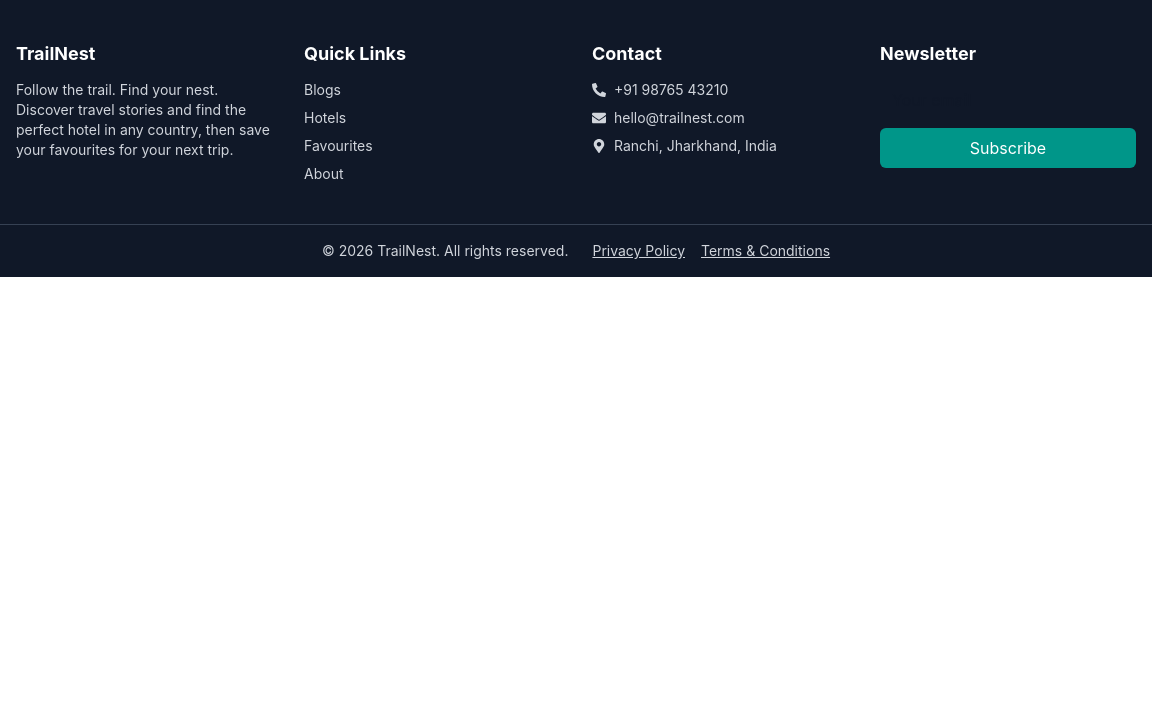
Test: Footer privacy modal › opens and closes with the Escape key
This screenshot has width=1152, height=720.
Click the button "Privacy Policy" at point(639, 251), box [592, 241, 685, 261]
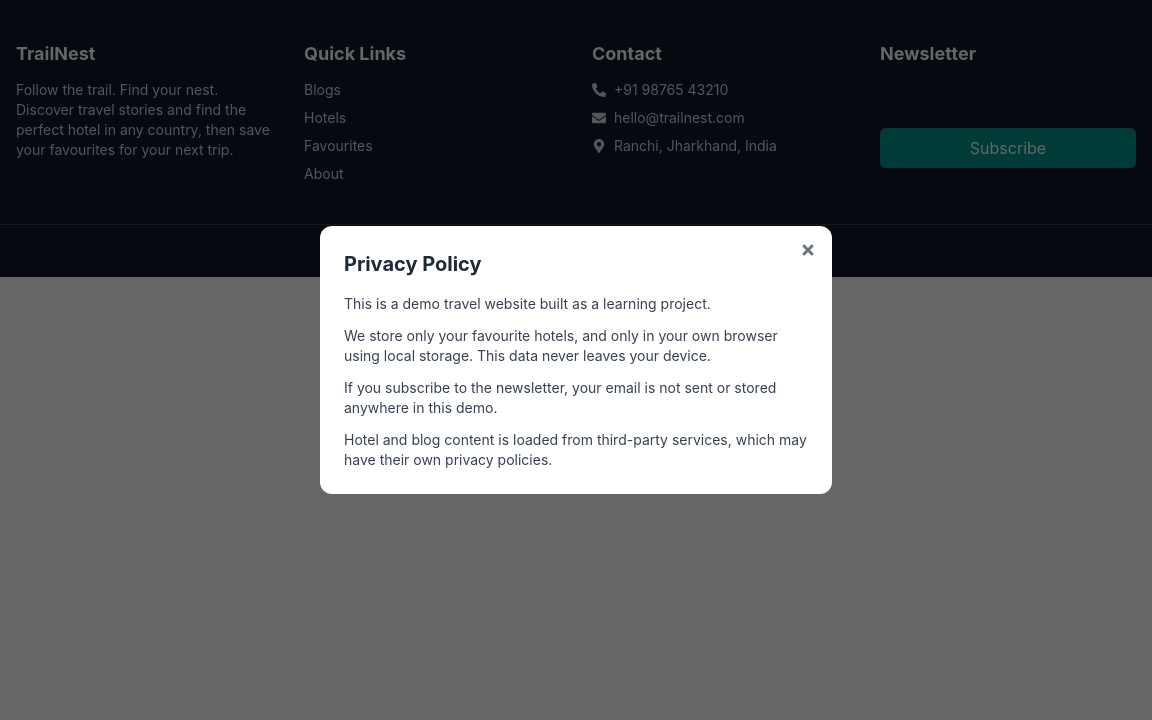
Expected: the dialog is shown, [320, 226, 832, 494]
Press Escape
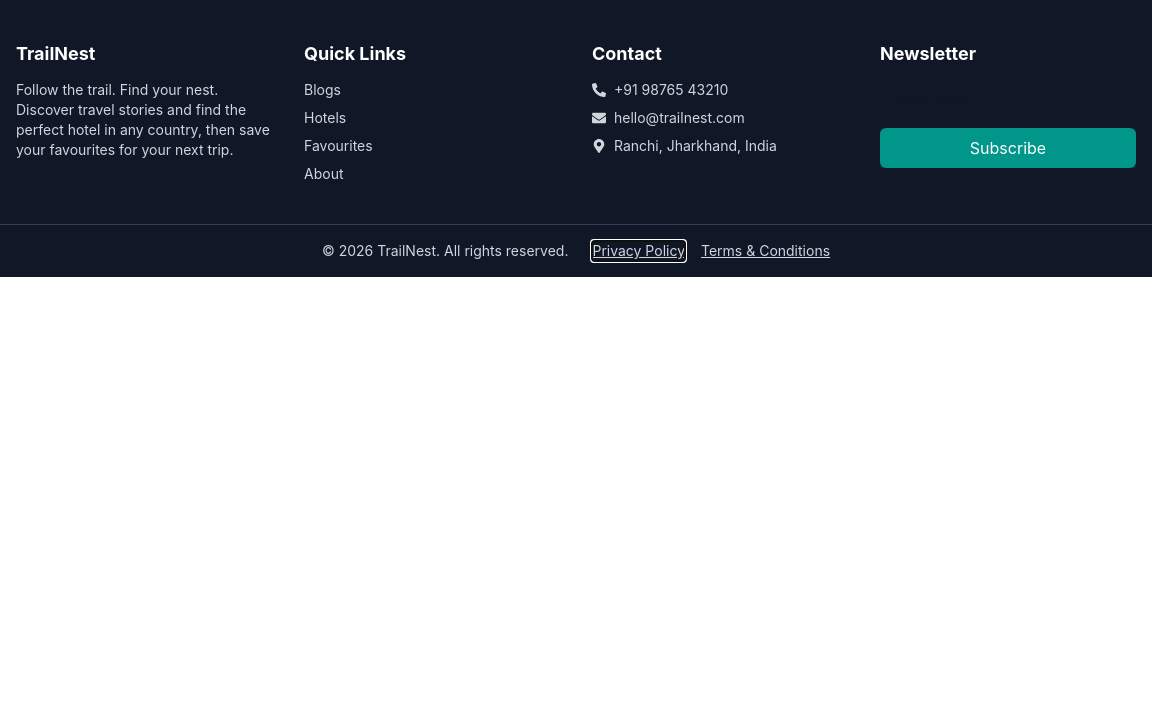
Expected: the dialog is gone
